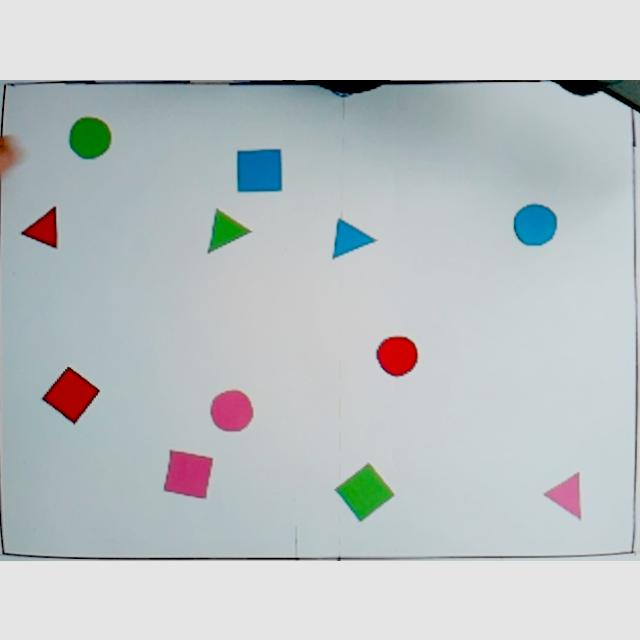blueCircle: (511, 200, 559, 248)
blueSquare: (234, 146, 286, 194)
blueTriangle: (330, 217, 378, 260)
greenCircle: (68, 114, 112, 160)
greenSquare: (335, 460, 395, 522)
greenTriangle: (204, 206, 252, 254)
pinkCircle: (210, 385, 256, 433)
pinkSquare: (162, 446, 214, 498)
pinkTriangle: (543, 470, 587, 522)
redCircle: (374, 332, 421, 378)
redSquare: (41, 364, 104, 426)
redTriangle: (20, 203, 60, 249)
